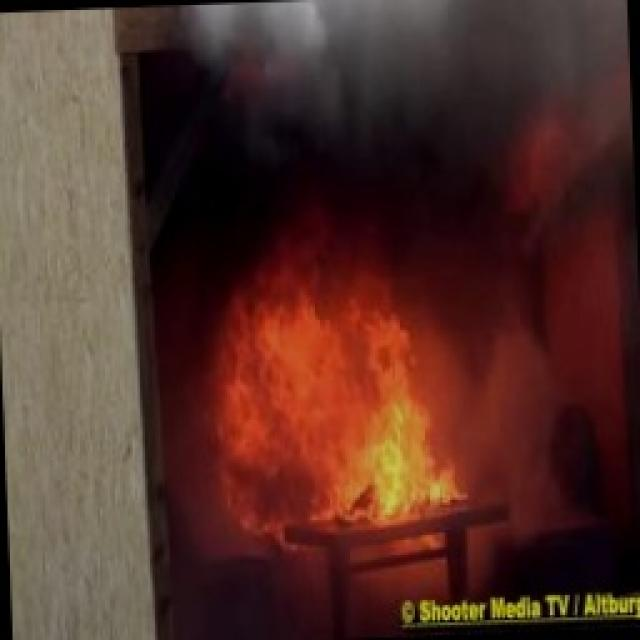fire: (202, 245, 508, 547)
